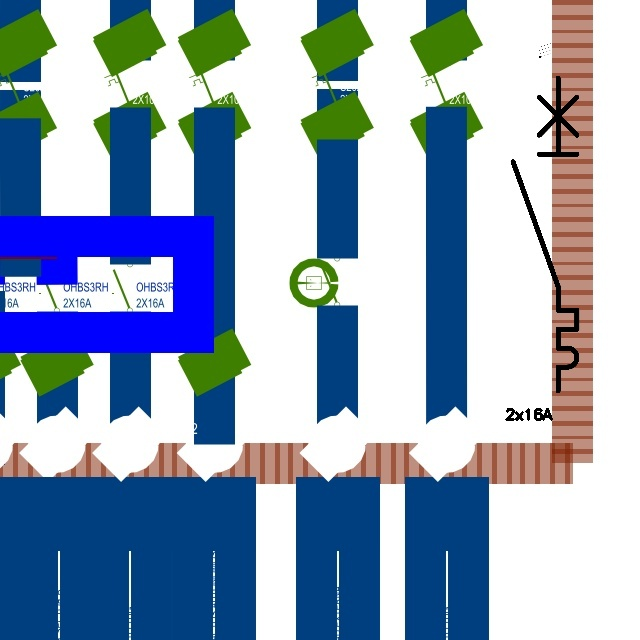interruptor_termomagnetico: (505, 70, 585, 399)
